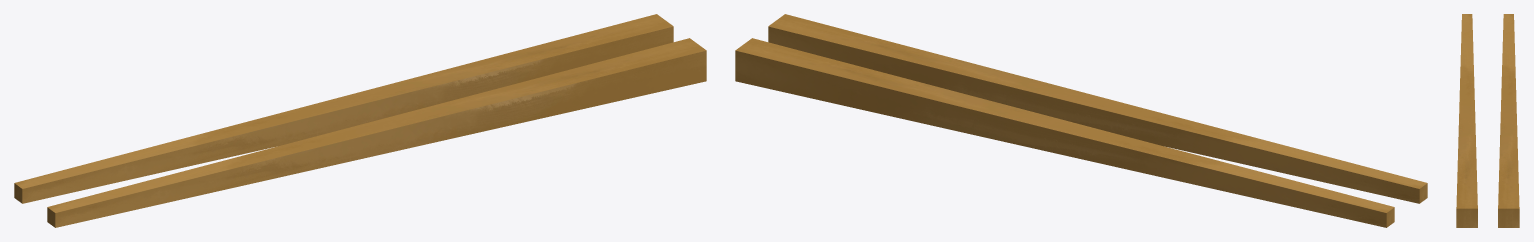
File: chopsticks.fbx
3 renders of one model, left to right at view 1: azimuth 30°, elevation 25°; view 2: azimuth 150°, elevation 25°; view 3: azimuth 270°, elevation 25°, orthographic. The views are drawn at different scales.
Parts seen in each view (by area): view 1: chopsticks; view 2: chopsticks; view 3: chopsticks.
Boxes of the visible parts, x1,y1,x2,y2 form: chopsticks: [14, 14, 706, 227]; chopsticks: [735, 14, 1427, 227]; chopsticks: [1456, 14, 1519, 227].
Bounding box in the file's own units: 22.91 × 1.04 × 3.06.
